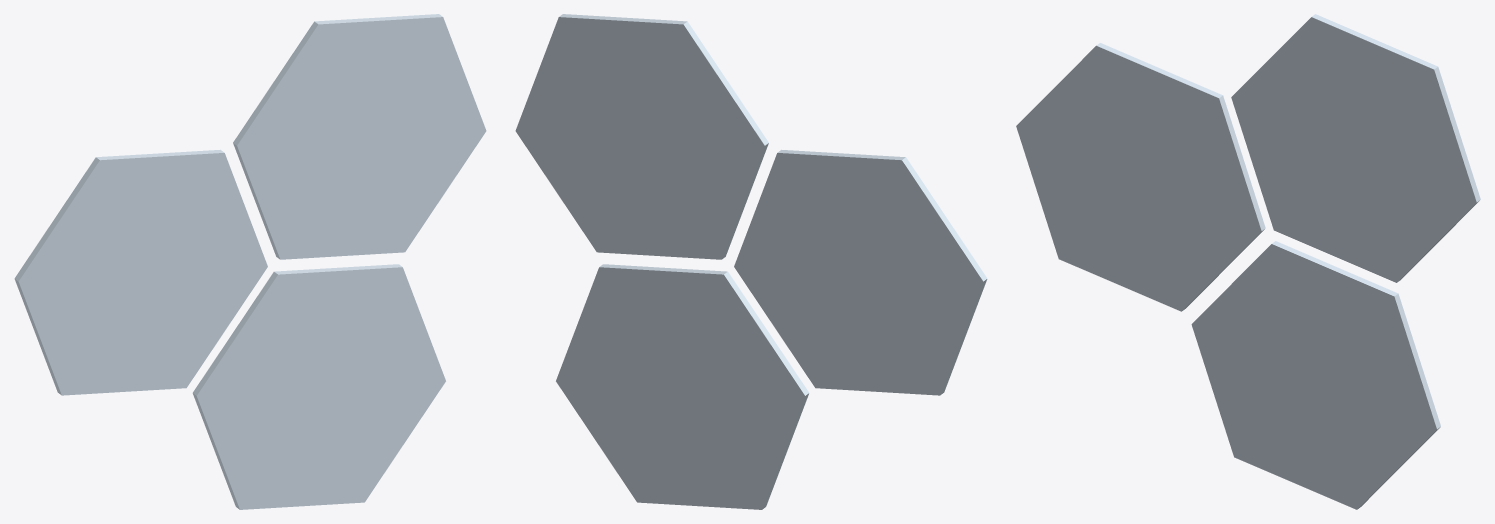
Rendered from Honey_3D_Icon.fbx.
3 views of the same model, side by side, from view 1: azimuth 30°, elevation 25°; view 2: azimuth 150°, elevation 25°; view 3: azimuth 330°, elevation 25° (orthographic).
Parts seen in each view (by area): view 1: Honey_3D_Icon; view 2: Honey_3D_Icon; view 3: Honey_3D_Icon.
Boxes of the visible parts, box(x1,y1,x2,y2) form: Honey_3D_Icon: box(14, 14, 486, 509); Honey_3D_Icon: box(515, 14, 987, 509); Honey_3D_Icon: box(1016, 14, 1480, 509).
Size of the model in its own units: 130 by 130 by 2.
